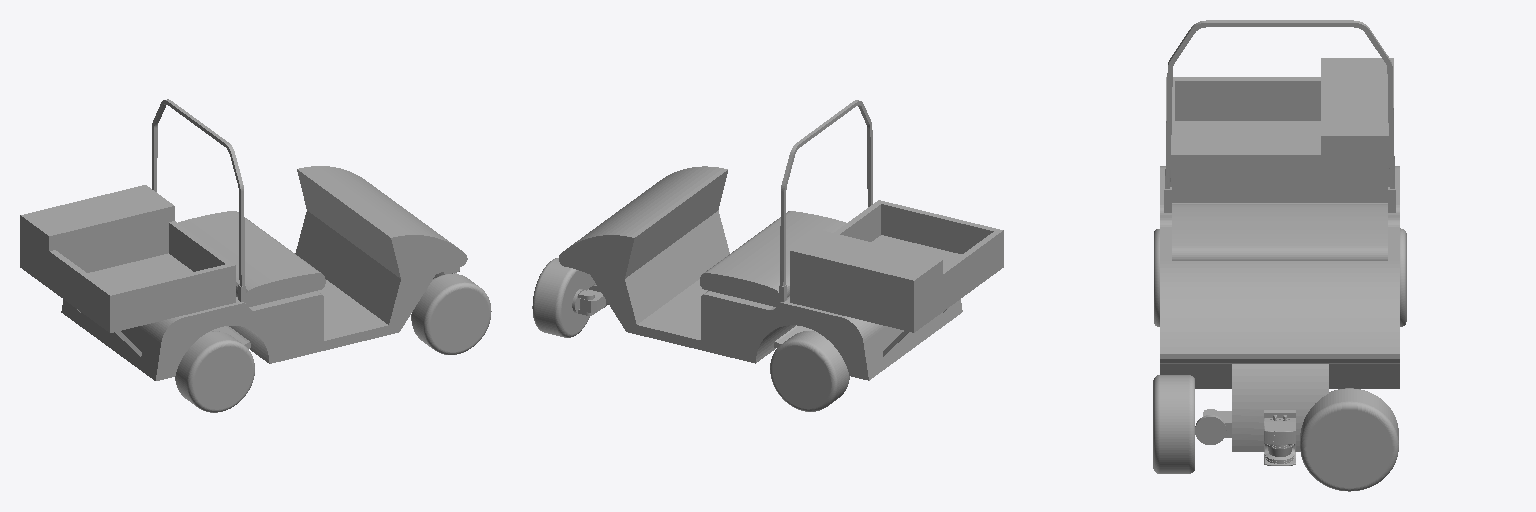
URDF robot description (caddy_ai2):
<?xml version="1.0" ?>
<!-- =================================================================================== -->
<!-- |    This document was autogenerated by xacro from caddy_ai2.xacro                | -->
<!-- |    EDITING THIS FILE BY HAND IS NOT RECOMMENDED                                 | -->
<!-- =================================================================================== -->
<robot name="caddy_ai2">
  <material name="silver">
    <color rgba="0.700 0.700 0.700 1.000"/>
  </material>
  <transmission name="steer_left_joint_tran">
    <type>transmission_interface/SimpleTransmission</type>
    <joint name="steer_left_joint">
      <hardwareInterface>hardware_interface/EffortJointInterface</hardwareInterface>
    </joint>
    <actuator name="steer_left_joint_actr">
      <hardwareInterface>hardware_interface/EffortJointInterface</hardwareInterface>
      <mechanicalReduction>1</mechanicalReduction>
    </actuator>
  </transmission>
  <transmission name="steer_right_joint_tran">
    <type>transmission_interface/SimpleTransmission</type>
    <joint name="steer_right_joint">
      <hardwareInterface>hardware_interface/EffortJointInterface</hardwareInterface>
    </joint>
    <actuator name="steer_right_joint_actr">
      <hardwareInterface>hardware_interface/EffortJointInterface</hardwareInterface>
      <mechanicalReduction>1</mechanicalReduction>
    </actuator>
  </transmission>
  <transmission name="front_right_joint_tran">
    <type>transmission_interface/SimpleTransmission</type>
    <joint name="front_right_joint">
      <hardwareInterface>hardware_interface/EffortJointInterface</hardwareInterface>
    </joint>
    <actuator name="front_right_joint_actr">
      <hardwareInterface>hardware_interface/EffortJointInterface</hardwareInterface>
      <mechanicalReduction>1</mechanicalReduction>
    </actuator>
  </transmission>
  <transmission name="front_left_joint_tran">
    <type>transmission_interface/SimpleTransmission</type>
    <joint name="front_left_joint">
      <hardwareInterface>hardware_interface/EffortJointInterface</hardwareInterface>
    </joint>
    <actuator name="front_left_joint_actr">
      <hardwareInterface>hardware_interface/EffortJointInterface</hardwareInterface>
      <mechanicalReduction>1</mechanicalReduction>
    </actuator>
  </transmission>
  <transmission name="rear_right_joint_tran">
    <type>transmission_interface/SimpleTransmission</type>
    <joint name="rear_right_joint">
      <hardwareInterface>hardware_interface/EffortJointInterface</hardwareInterface>
    </joint>
    <actuator name="rear_right_joint_actr">
      <hardwareInterface>hardware_interface/EffortJointInterface</hardwareInterface>
      <mechanicalReduction>1</mechanicalReduction>
    </actuator>
  </transmission>
  <transmission name="rear_left_joint_tran">
    <type>transmission_interface/SimpleTransmission</type>
    <joint name="rear_left_joint">
      <hardwareInterface>hardware_interface/EffortJointInterface</hardwareInterface>
    </joint>
    <actuator name="rear_left_joint_actr">
      <hardwareInterface>hardware_interface/EffortJointInterface</hardwareInterface>
      <mechanicalReduction>1</mechanicalReduction>
    </actuator>
  </transmission>
  <gazebo>
    <plugin filename="libgazebo_ros_control.so" name="control"/>
  </gazebo>
  <gazebo reference="base_link">
    <material>Gazebo/Silver</material>
    <mu1>0.2</mu1>
    <mu2>0.2</mu2>
    <selfCollide>true</selfCollide>
    <gravity>true</gravity>
  </gazebo>
  <gazebo reference="steering_hub_left_1">
    <material>Gazebo/Silver</material>
    <mu1>0.2</mu1>
    <mu2>0.2</mu2>
    <selfCollide>true</selfCollide>
  </gazebo>
  <gazebo reference="steering_hub_right_1">
    <material>Gazebo/Silver</material>
    <mu1>0.2</mu1>
    <mu2>0.2</mu2>
    <selfCollide>true</selfCollide>
  </gazebo>
  <gazebo reference="wheel_front_right_1">
    <material>Gazebo/Silver</material>
    <mu1>0.2</mu1>
    <mu2>0.2</mu2>
    <selfCollide>true</selfCollide>
  </gazebo>
  <gazebo reference="wheel_front_left_1">
    <material>Gazebo/Silver</material>
    <mu1>0.2</mu1>
    <mu2>0.2</mu2>
    <selfCollide>true</selfCollide>
  </gazebo>
  <gazebo reference="wheel_rear_right_1">
    <material>Gazebo/Silver</material>
    <mu1>0.2</mu1>
    <mu2>0.2</mu2>
    <selfCollide>true</selfCollide>
  </gazebo>
  <gazebo reference="wheel_rear_left_1">
    <material>Gazebo/Silver</material>
    <mu1>0.2</mu1>
    <mu2>0.2</mu2>
    <selfCollide>true</selfCollide>
  </gazebo>
  <gazebo reference="SICK_LMS291_1">
    <material>Gazebo/Silver</material>
    <mu1>0.2</mu1>
    <mu2>0.2</mu2>
    <selfCollide>true</selfCollide>
  </gazebo>
  <link name="base_link">
    <inertial>
      <origin rpy="0 0 0" xyz="-0.37394134652960426 0.04474377035954571 0.578955145397471"/>
      <mass value="6911.347233417728"/>
      <inertia ixx="1013.115849" ixy="237.674052" ixz="271.442423" iyy="3529.517774" iyz="-86.909623" izz="3990.17869"/>
    </inertial>
    <visual>
      <origin rpy="0 0 0" xyz="0 0 0"/>
      <geometry>
        <mesh filename="package://caddy_ai2_description/meshes/base_link.stl" scale="0.001 0.001 0.001"/>
      </geometry>
      <material name="silver"/>
    </visual>
    <collision>
      <origin rpy="0 0 0" xyz="0 0 0"/>
      <geometry>
        <mesh filename="package://caddy_ai2_description/meshes/base_link.stl" scale="0.001 0.001 0.001"/>
      </geometry>
    </collision>
  </link>
  <link name="steering_hub_left_1">
    <inertial>
      <origin rpy="0 0 0" xyz="0.04503654747079244 -1.5755382293813902e-06 -0.06500000000000006"/>
      <mass value="4.494220600265263"/>
      <inertia ixx="0.01341" ixy="0.0" ixz="-0.0" iyy="0.01229" iyz="0.0" izz="0.008238"/>
    </inertial>
    <visual>
      <origin rpy="0 0 0" xyz="-0.825 -0.33 -0.3"/>
      <geometry>
        <mesh filename="package://caddy_ai2_description/meshes/steering_hub_left_1.stl" scale="0.001 0.001 0.001"/>
      </geometry>
      <material name="silver"/>
    </visual>
    <collision>
      <origin rpy="0 0 0" xyz="-0.825 -0.33 -0.3"/>
      <geometry>
        <mesh filename="package://caddy_ai2_description/meshes/steering_hub_left_1.stl" scale="0.001 0.001 0.001"/>
      </geometry>
    </collision>
  </link>
  <link name="steering_hub_right_1">
    <inertial>
      <origin rpy="0 0 0" xyz="0.045036547470792665 -1.5755382292148568e-06 -0.06500000000000006"/>
      <mass value="4.494220600265263"/>
      <inertia ixx="0.01341" ixy="0.0" ixz="0.0" iyy="0.01229" iyz="0.0" izz="0.008238"/>
    </inertial>
    <visual>
      <origin rpy="0 0 0" xyz="-0.825 0.33 -0.3"/>
      <geometry>
        <mesh filename="package://caddy_ai2_description/meshes/steering_hub_right_1.stl" scale="0.001 0.001 0.001"/>
      </geometry>
      <material name="silver"/>
    </visual>
    <collision>
      <origin rpy="0 0 0" xyz="-0.825 0.33 -0.3"/>
      <geometry>
        <mesh filename="package://caddy_ai2_description/meshes/steering_hub_right_1.stl" scale="0.001 0.001 0.001"/>
      </geometry>
    </collision>
  </link>
  <link name="wheel_front_right_1">
    <inertial>
      <origin rpy="0 0 0" xyz="0.1000001611093495 3.306197996488791e-07 5.551115123125783e-17"/>
      <mass value="268.03659227457297"/>
      <inertia ixx="7.294149" ixy="0.0" ixz="0.0" iyy="4.517093" iyz="-0.0" izz="4.517093"/>
    </inertial>
    <visual>
      <origin rpy="0 0 0" xyz="-0.898058 0.330002 -0.235"/>
      <geometry>
        <mesh filename="package://caddy_ai2_description/meshes/wheel_front_right_1.stl" scale="0.001 0.001 0.001"/>
      </geometry>
      <material name="silver"/>
    </visual>
    <collision>
      <origin rpy="0 0 0" xyz="-0.898058 0.330002 -0.235"/>
      <geometry>
        <mesh filename="package://caddy_ai2_description/meshes/wheel_front_right_1.stl" scale="0.001 0.001 0.001"/>
      </geometry>
    </collision>
  </link>
  <link name="wheel_front_left_1">
    <inertial>
      <origin rpy="0 0 0" xyz="0.10000016110934795 3.306197997599014e-07 5.551115123125783e-17"/>
      <mass value="268.03659227457297"/>
      <inertia ixx="7.294149" ixy="0.0" ixz="0.0" iyy="4.517093" iyz="-0.0" izz="4.517093"/>
    </inertial>
    <visual>
      <origin rpy="0 0 0" xyz="-0.898058 -0.329998 -0.235"/>
      <geometry>
        <mesh filename="package://caddy_ai2_description/meshes/wheel_front_left_1.stl" scale="0.001 0.001 0.001"/>
      </geometry>
      <material name="silver"/>
    </visual>
    <collision>
      <origin rpy="0 0 0" xyz="-0.898058 -0.329998 -0.235"/>
      <geometry>
        <mesh filename="package://caddy_ai2_description/meshes/wheel_front_left_1.stl" scale="0.001 0.001 0.001"/>
      </geometry>
    </collision>
  </link>
  <link name="wheel_rear_right_1">
    <inertial>
      <origin rpy="0 0 0" xyz="2.2948702271818888e-08 -0.10000000305175799 2.0302066416899578e-09"/>
      <mass value="268.03659227457297"/>
      <inertia ixx="4.517093" ixy="0.0" ixz="0.0" iyy="7.294149" iyz="-0.0" izz="4.517093"/>
    </inertial>
    <visual>
      <origin rpy="0 0 0" xyz="0.825 0.4018 -0.235"/>
      <geometry>
        <mesh filename="package://caddy_ai2_description/meshes/wheel_rear_right_1.stl" scale="0.001 0.001 0.001"/>
      </geometry>
      <material name="silver"/>
    </visual>
    <collision>
      <origin rpy="0 0 0" xyz="0.825 0.4018 -0.235"/>
      <geometry>
        <mesh filename="package://caddy_ai2_description/meshes/wheel_rear_right_1.stl" scale="0.001 0.001 0.001"/>
      </geometry>
    </collision>
  </link>
  <link name="wheel_rear_left_1">
    <inertial>
      <origin rpy="0 0 0" xyz="2.2948702271818888e-08 0.10000000305175755 2.0302066416899578e-09"/>
      <mass value="268.03659227457297"/>
      <inertia ixx="4.517093" ixy="0.0" ixz="-0.0" iyy="7.294149" iyz="0.0" izz="4.517093"/>
    </inertial>
    <visual>
      <origin rpy="0 0 0" xyz="0.825 -0.4018 -0.235"/>
      <geometry>
        <mesh filename="package://caddy_ai2_description/meshes/wheel_rear_left_1.stl" scale="0.001 0.001 0.001"/>
      </geometry>
      <material name="silver"/>
    </visual>
    <collision>
      <origin rpy="0 0 0" xyz="0.825 -0.4018 -0.235"/>
      <geometry>
        <mesh filename="package://caddy_ai2_description/meshes/wheel_rear_left_1.stl" scale="0.001 0.001 0.001"/>
      </geometry>
    </collision>
  </link>
  <link name="SICK_LMS291_1">
    <inertial>
      <origin rpy="0 0 0" xyz="0.07087581656184416 1.7016769843495403e-06 -0.24450398457225875"/>
      <mass value="29.182325361169905"/>
      <inertia ixx="0.137412" ixy="3e-06" ixz="-0.005719" iyy="0.137225" iyz="3e-06" izz="0.100203"/>
    </inertial>
    <visual>
      <origin rpy="0 0 0" xyz="-0.990124 -0.0 -0.505"/>
      <geometry>
        <mesh filename="package://caddy_ai2_description/meshes/SICK_LMS291_1.stl" scale="0.001 0.001 0.001"/>
      </geometry>
      <material name="silver"/>
    </visual>
    <collision>
      <origin rpy="0 0 0" xyz="-0.990124 -0.0 -0.505"/>
      <geometry>
        <mesh filename="package://caddy_ai2_description/meshes/SICK_LMS291_1.stl" scale="0.001 0.001 0.001"/>
      </geometry>
    </collision>
  </link>
  <joint name="steer_left_joint" type="revolute">
    <origin rpy="0 0 0" xyz="0.825 0.33 0.3"/>
    <parent link="base_link"/>
    <child link="steering_hub_left_1"/>
    <axis xyz="0.0 0.0 1.0"/>
    <limit effort="100" lower="-0.785398" upper="0.785398" velocity="100"/>
  </joint>
  <joint name="steer_right_joint" type="revolute">
    <origin rpy="0 0 0" xyz="0.825 -0.33 0.3"/>
    <parent link="base_link"/>
    <child link="steering_hub_right_1"/>
    <axis xyz="0.0 0.0 1.0"/>
    <limit effort="100" lower="-0.785398" upper="0.785398" velocity="100"/>
  </joint>
  <joint name="front_right_joint" type="continuous">
    <origin rpy="0 0 0" xyz="0.073058 -2e-06 -0.065"/>
    <parent link="steering_hub_right_1"/>
    <child link="wheel_front_right_1"/>
    <axis xyz="1.0 -0.0 0.0"/>
  </joint>
  <joint name="front_left_joint" type="continuous">
    <origin rpy="0 0 0" xyz="0.073058 -2e-06 -0.065"/>
    <parent link="steering_hub_left_1"/>
    <child link="wheel_front_left_1"/>
    <axis xyz="1.0 0.0 0.0"/>
  </joint>
  <joint name="rear_right_joint" type="continuous">
    <origin rpy="0 0 0" xyz="-0.825 -0.4018 0.235"/>
    <parent link="base_link"/>
    <child link="wheel_rear_right_1"/>
    <axis xyz="0.0 -1.0 0.0"/>
  </joint>
  <joint name="rear_left_joint" type="continuous">
    <origin rpy="0 0 0" xyz="-0.825 0.4018 0.235"/>
    <parent link="base_link"/>
    <child link="wheel_rear_left_1"/>
    <axis xyz="-0.0 1.0 0.0"/>
  </joint>
  <joint name="lidar_joint" type="fixed">
    <origin rpy="0 0 0" xyz="0.990124 0.0 0.505"/>
    <parent link="base_link"/>
    <child link="SICK_LMS291_1"/>
  </joint>
</robot>

--- Render facts (derived) ---
3 views of the same robot in one strip: view 1: azimuth 30°, elevation 25°; view 2: azimuth 150°, elevation 25°; view 3: azimuth 270°, elevation 25° (orthographic).
Robot: caddy_ai2 — 8 links, 7 joints (2 revolute, 4 continuous, 1 fixed); root link base_link; default pose: all joints at 0.
Visible links, largest first — view 1: base_link, wheel_front_right_1, wheel_rear_right_1; view 2: base_link, wheel_rear_left_1, wheel_front_left_1; view 3: base_link, wheel_front_left_1, wheel_front_right_1, SICK_LMS291_1, steering_hub_right_1, wheel_rear_left_1, wheel_rear_right_1.
Boxes of the visible links, left/top/right/bottom form: base_link: left=20, top=99, right=467, bottom=380; wheel_front_right_1: left=411, top=274, right=491, bottom=354; wheel_rear_right_1: left=175, top=331, right=254, bottom=412; base_link: left=559, top=100, right=1003, bottom=380; wheel_rear_left_1: left=770, top=331, right=849, bottom=411; wheel_front_left_1: left=532, top=258, right=595, bottom=337; base_link: left=1160, top=20, right=1399, bottom=451; wheel_front_left_1: left=1300, top=388, right=1398, bottom=491; wheel_front_right_1: left=1153, top=375, right=1194, bottom=473; SICK_LMS291_1: left=1264, top=415, right=1295, bottom=465; steering_hub_right_1: left=1195, top=409, right=1226, bottom=444; wheel_rear_left_1: left=1400, top=228, right=1406, bottom=326; wheel_rear_right_1: left=1154, top=229, right=1159, bottom=326.
Bounding box of the posed robot: 2.73 × 1.2 × 1.66 m (x, y, z).
8 mesh visuals loaded from 8 distinct referenced files (8 binary STL).
